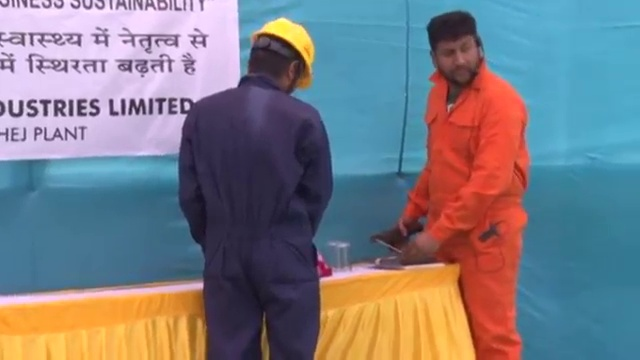helmet: (252, 15, 313, 83)
helmet_off: (427, 9, 488, 94)
helmet_on: (250, 13, 315, 100)
person: (175, 15, 337, 360), (396, 9, 531, 360)
